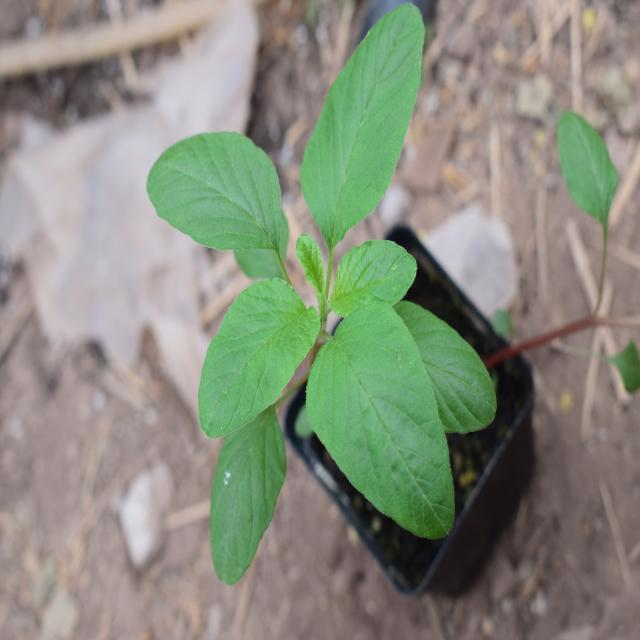pigweed: (153, 46, 475, 547)
